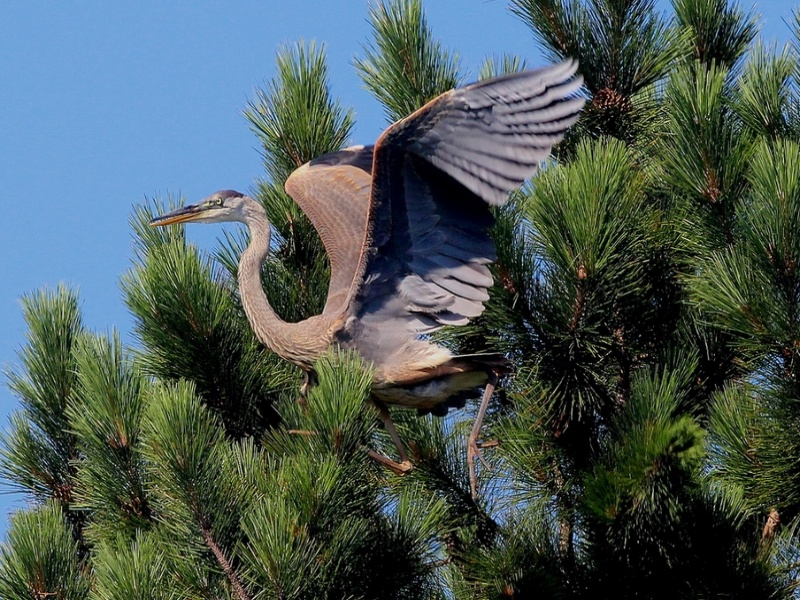heron: (146, 51, 589, 422)
